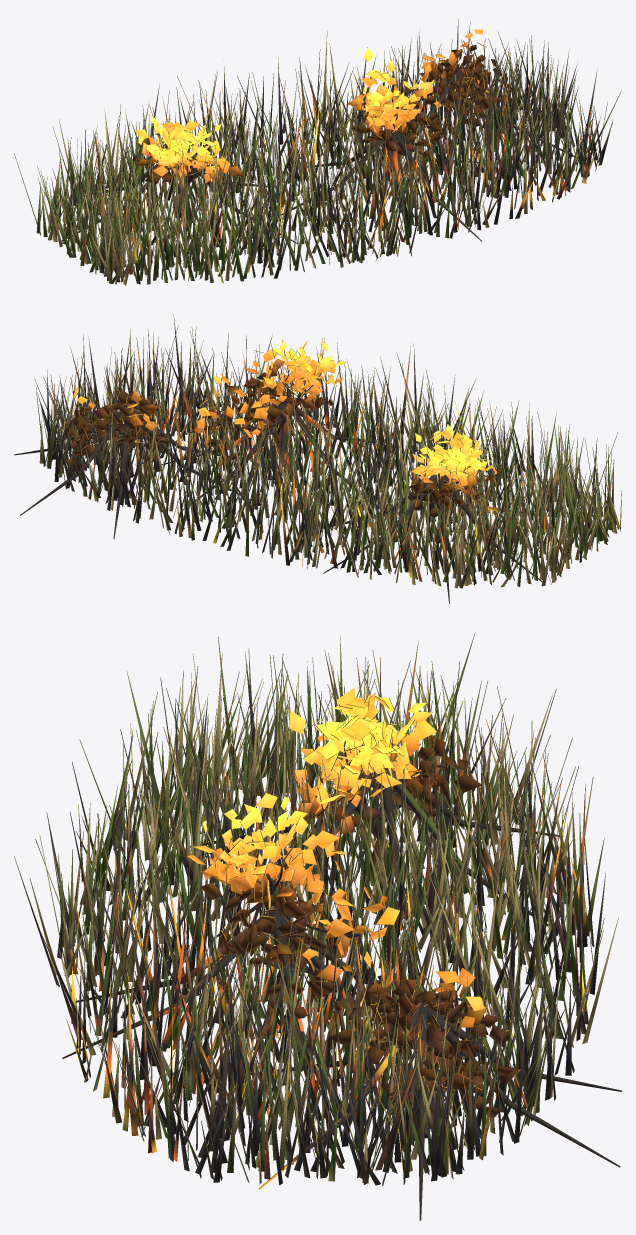
Rendered from brush.glb.
3 views of the same model, one above another, from view 1: azimuth 30°, elevation 25°; view 2: azimuth 150°, elevation 25°; view 3: azimuth 270°, elevation 25° (orthographic). The views are drawn at different scales.
Visible parts, largest first — view 1: AR_brush; view 2: AR_brush; view 3: AR_brush.
Part boxes in pixels (bbox=[...]): AR_brush: bbox=[14, 19, 621, 285]; AR_brush: bbox=[14, 315, 621, 603]; AR_brush: bbox=[14, 632, 621, 1220].
Bounding box in the file's own units: 3.89 × 0.9697 × 2.24.
Materials: 1 (1 with a texture image).
